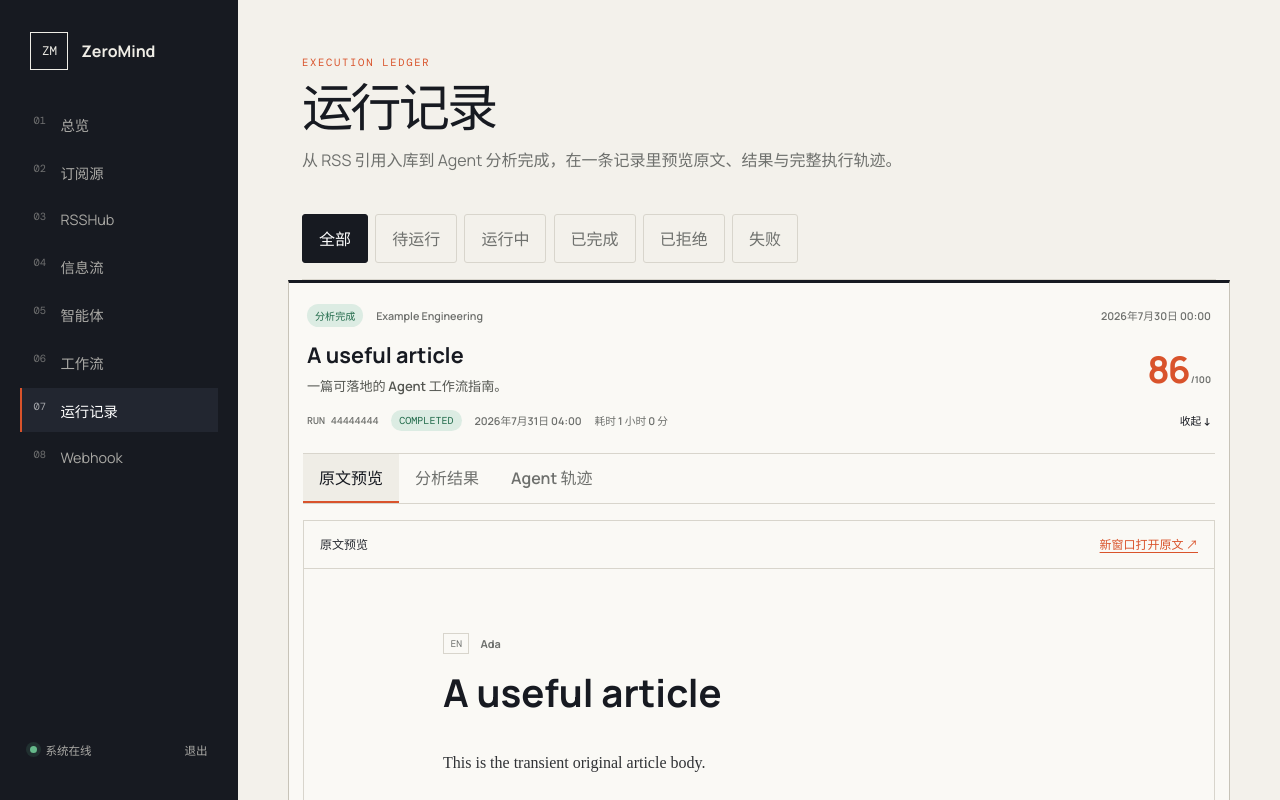
Test: ZeroMind administration › shows structured analysis and Agent sessions inside the expanded ledger row
Click the tab "分析结果": coordinates (447, 478) [399, 454, 495, 503]
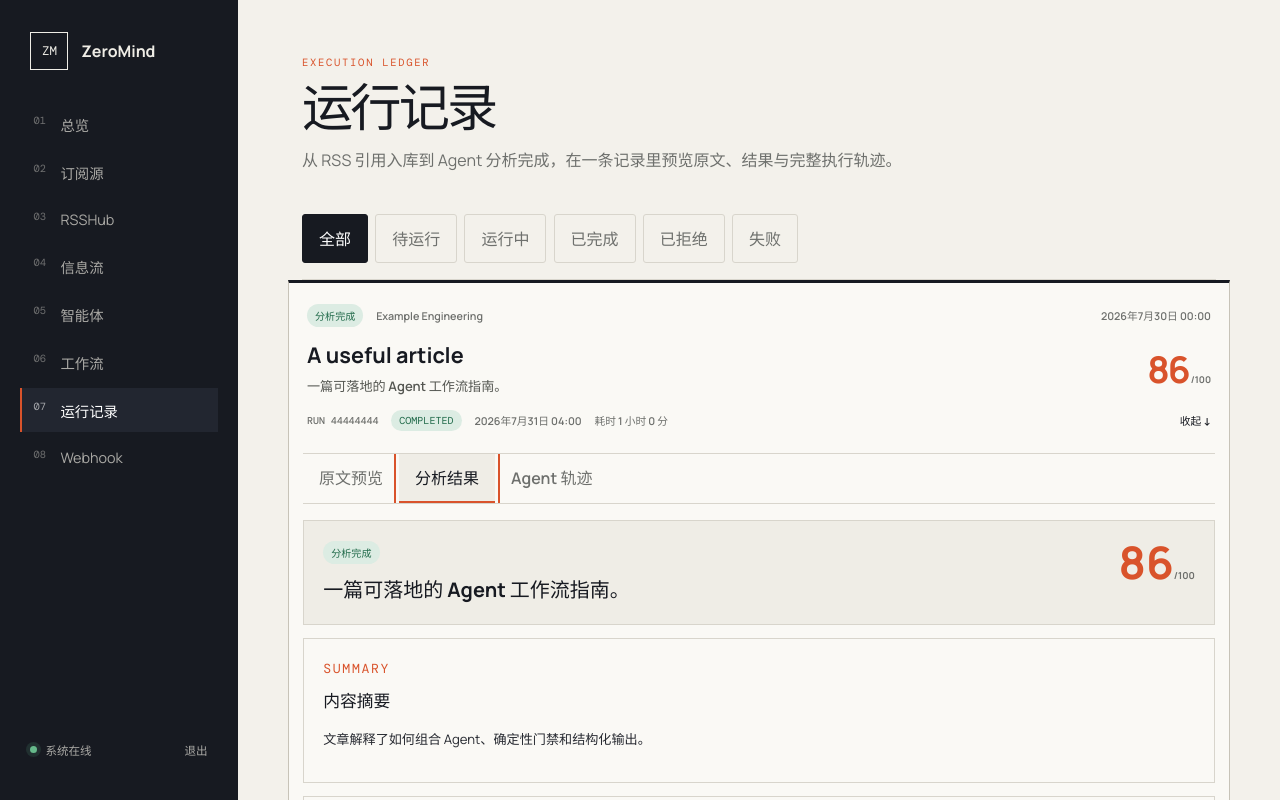
Expected: the text "文章解释了如何组合 Agent、确定性门禁和结构化输出。" is shown, [323, 730, 651, 748]
Click the tab "Agent 轨迹": coordinates (552, 478) [495, 454, 608, 503]
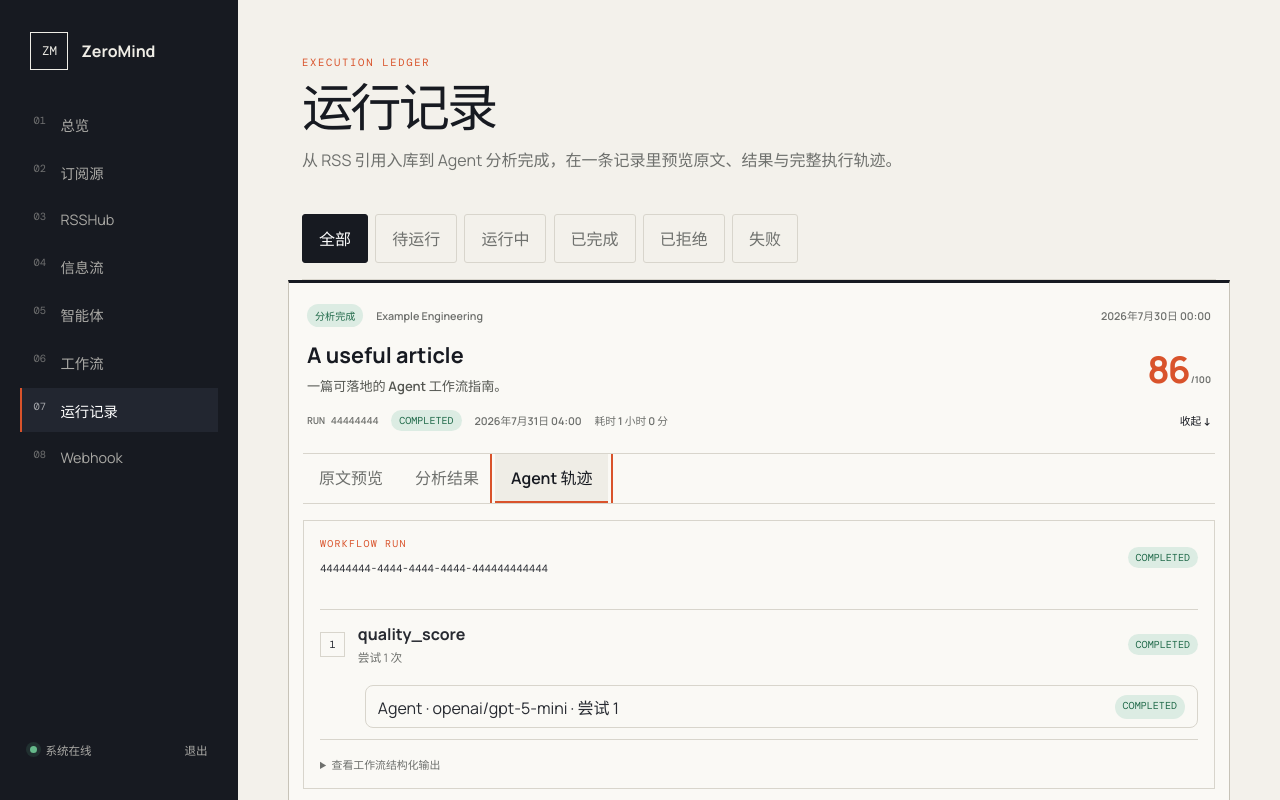
Expected: the text "quality_score" is shown, [358, 623, 466, 645]
Expected: the text "Agent · openai/gpt-5-mini · 尝试 1" is shown, [378, 694, 619, 718]
